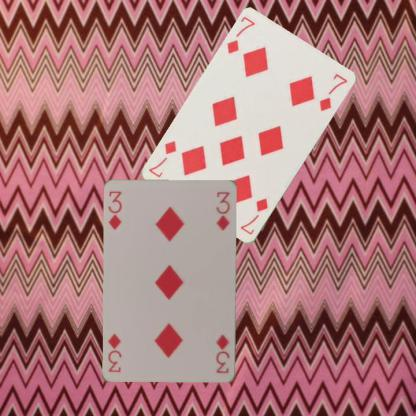3d: (214, 332, 231, 375), (106, 189, 123, 232)
7d: (224, 14, 257, 55), (238, 195, 270, 237)
